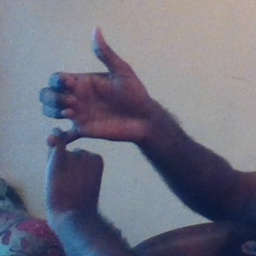S: (36, 21, 155, 193)
